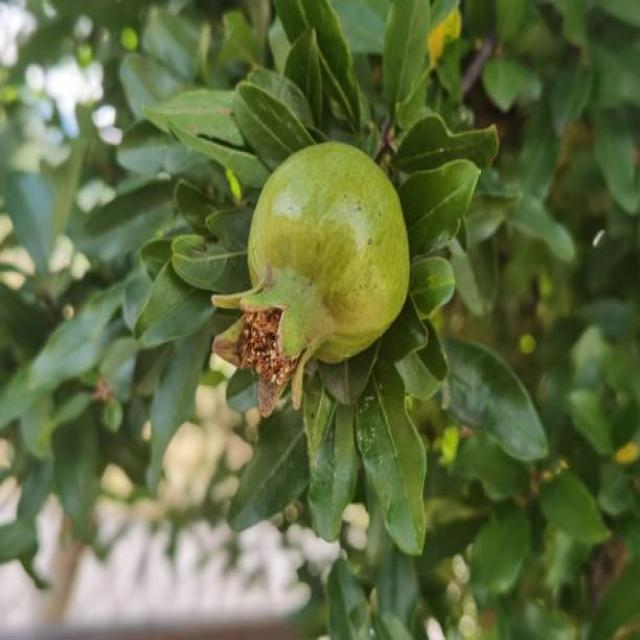Unripe: (209, 137, 412, 420)
